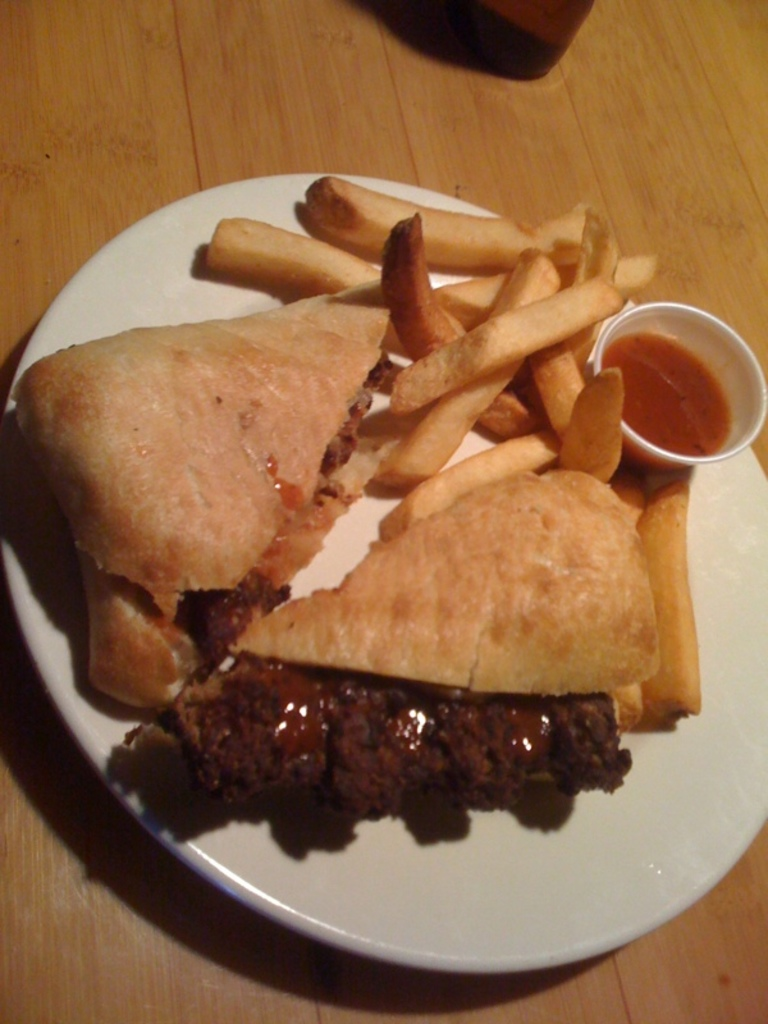French fries: (303, 174, 643, 606)
